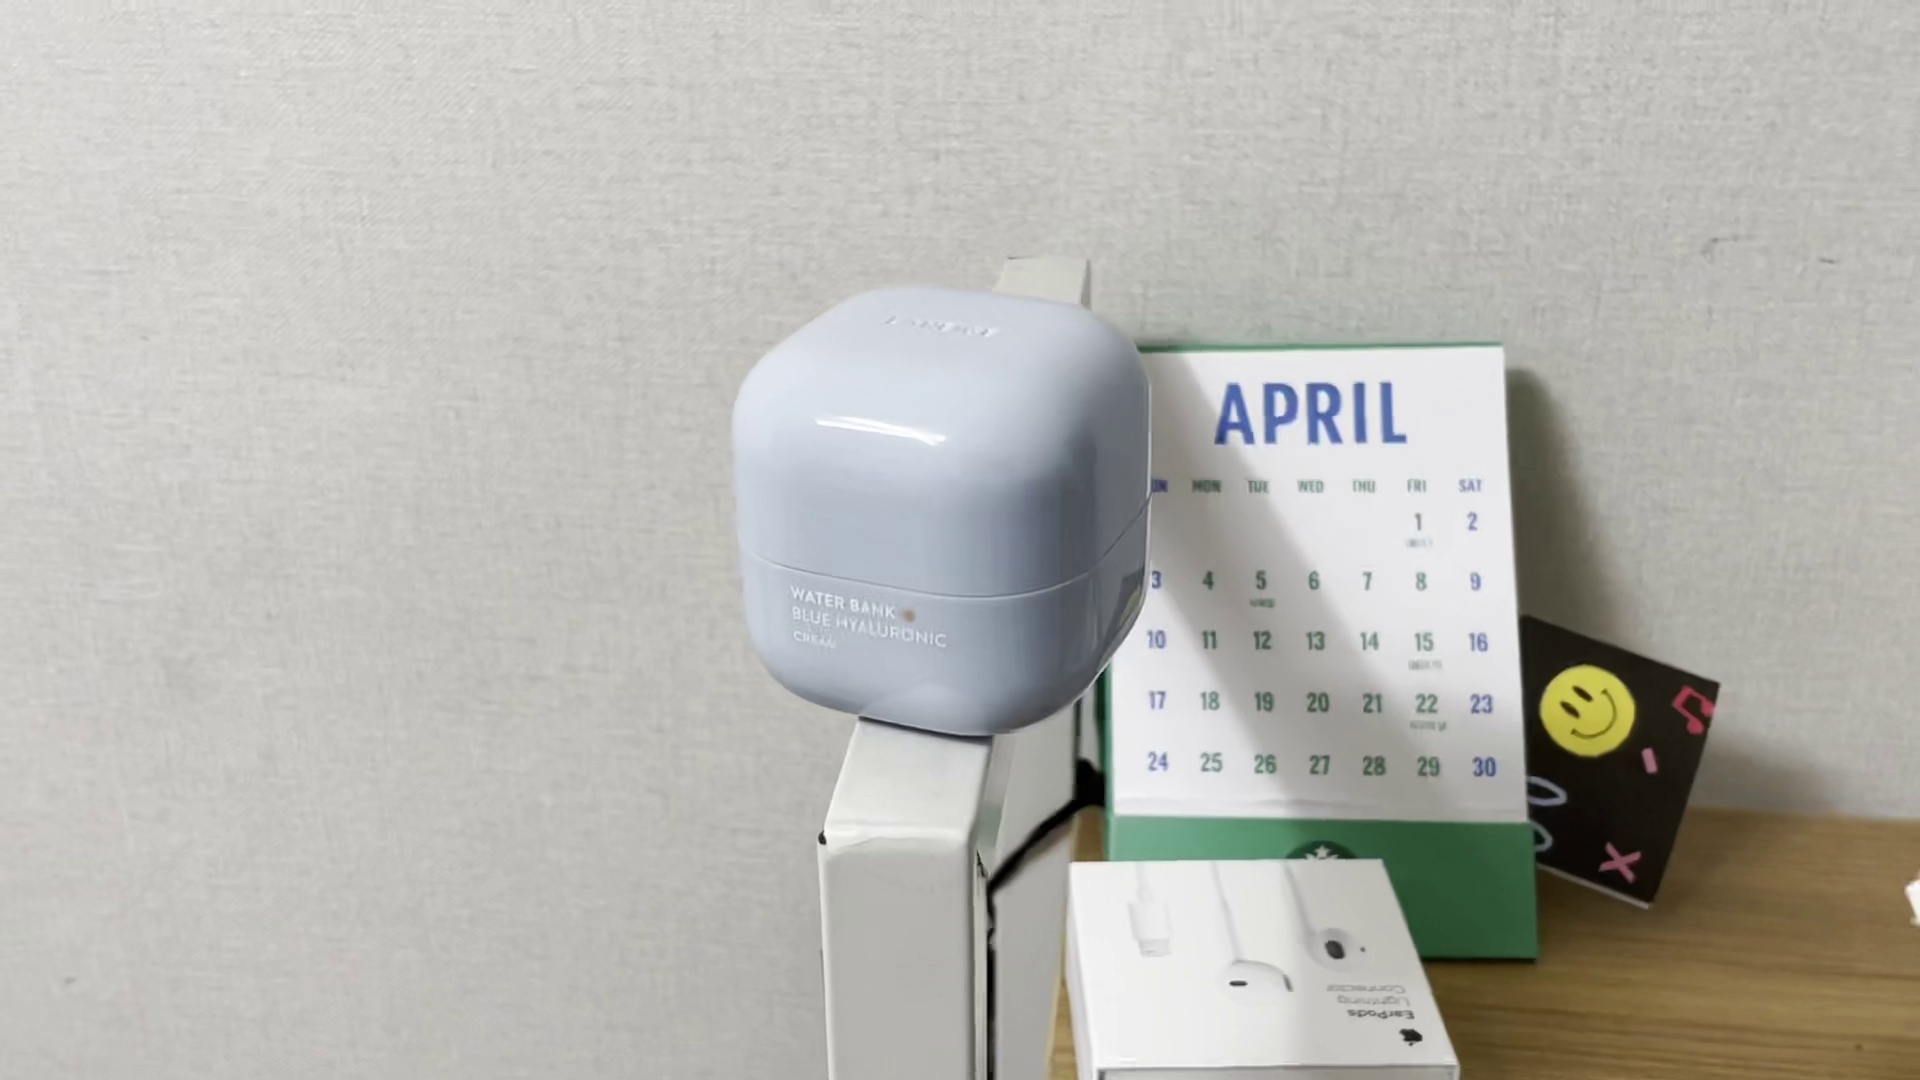cream: (735, 280, 1153, 733)
